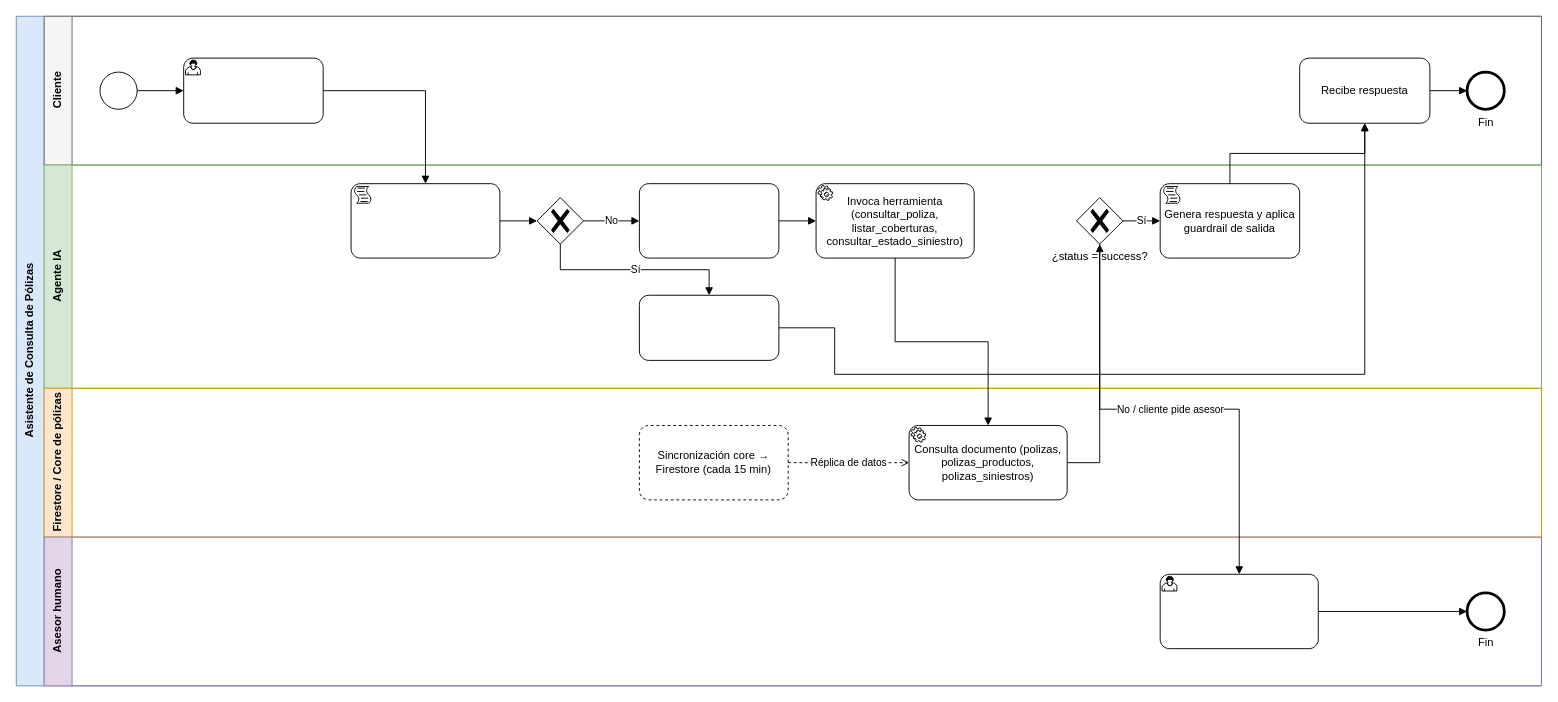
Image size: 1558x702. Some labels were removed from this diagram. Each missing label, with the centre of its shape:
"Atiende caso escalado (error, inconformidad o solicitud del cliente)" belongs at (1238,611).
"Escribe consulta (póliza, cobertura o siniestro)" belongs at (253,90).
"Guardrail de entrada: enmascara PII y detecta prompt injection" belongs at (425,220).
"Inicio" belongs at (118,90).
"Responde mensaje de alcance y ofrece asesor" belongs at (708,327).
"Solicita / valida número (POL- o SIN- + 8 dígitos)" belongs at (708,220).
"¿Inyección o fuera de alcance?" belongs at (560,220).
